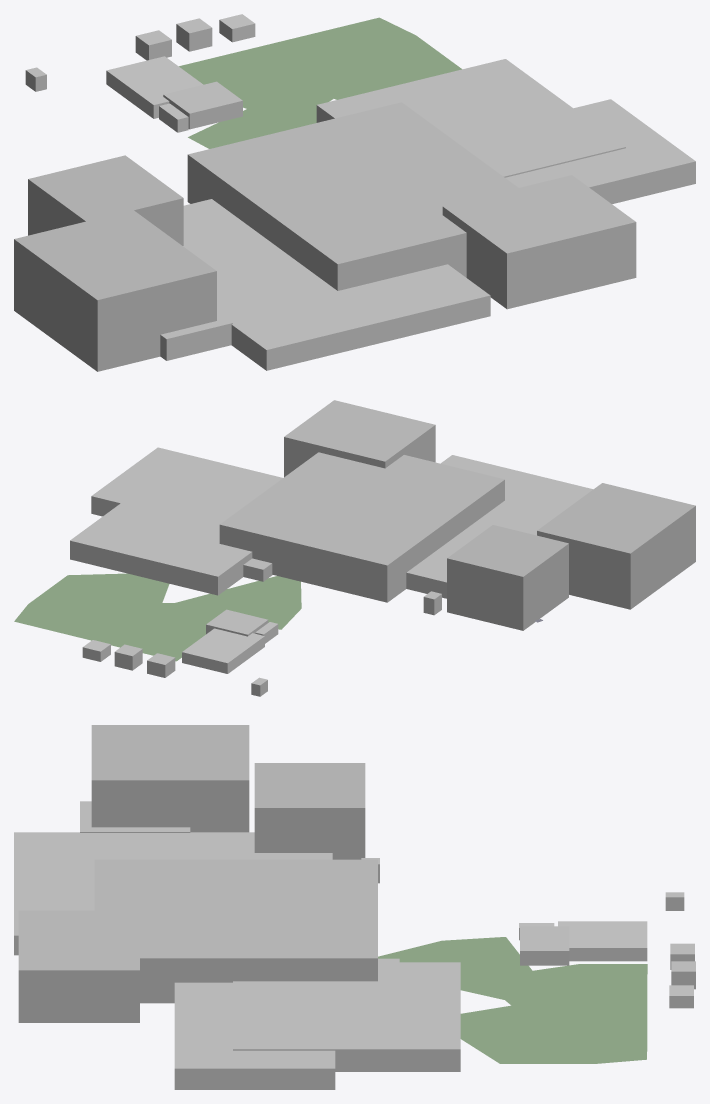
File: 109_90_mid.glb
3 views of the same model, one above another, from view 1: azimuth 30°, elevation 25°; view 2: azimuth 150°, elevation 25°; view 3: azimuth 270°, elevation 25° (orthographic). The views are drawn at different scales.
Bounding box in the file's own units: 563 × 61.65 × 548.
